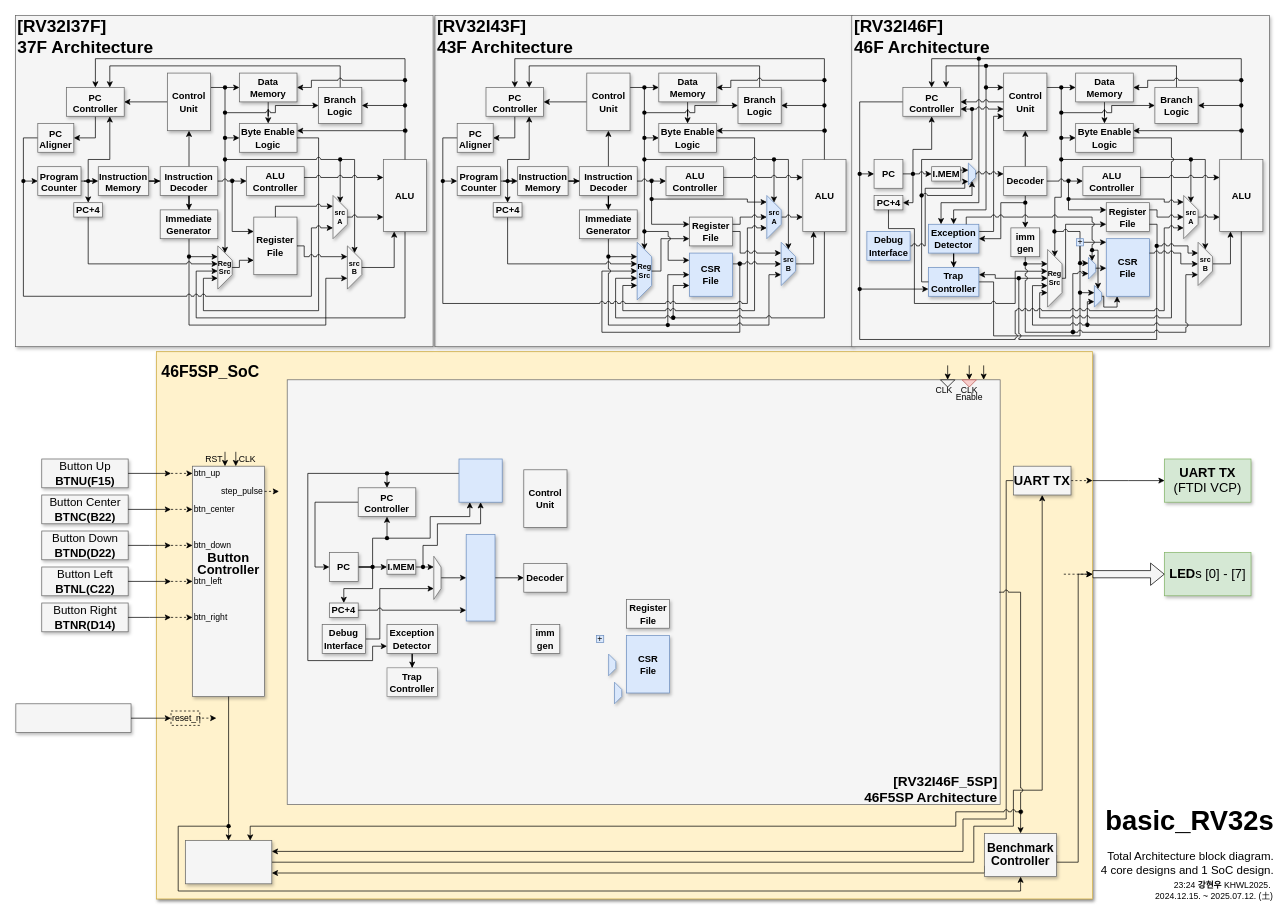
The diagram is 1287 pixels wide and 917 high, and some of its shapes have lost their labels. Each missing label, with the centre of its shape:
Branch Predictor: the point at 481,481
DebugUART Controller: the point at 229,863
IF/ID: the point at 481,578
Reset button CPU_RESET(G4): the point at 73,719
